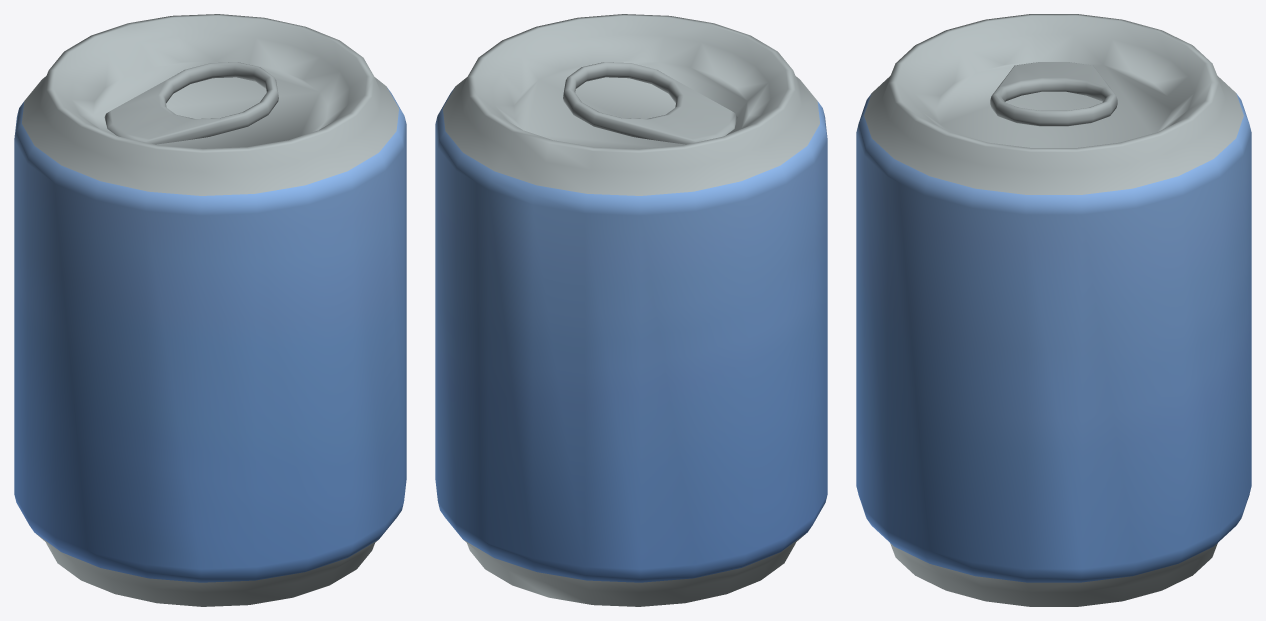
Rendered from Drinks.fbx.
The picture shows the model from 3 angles, left to right: view 1: azimuth 30°, elevation 25°; view 2: azimuth 150°, elevation 25°; view 3: azimuth 270°, elevation 25°; orthographic projection.
Parts seen in each view (by area): view 1: Circle.011; view 2: Circle.011; view 3: Circle.011.
Boxes of the visible parts, box(x1,y1,x2,y2) form: Circle.011: box(14, 14, 406, 606); Circle.011: box(435, 14, 827, 606); Circle.011: box(856, 14, 1251, 606).
Bounding box in the file's own units: 2 × 2.58 × 2.03.
